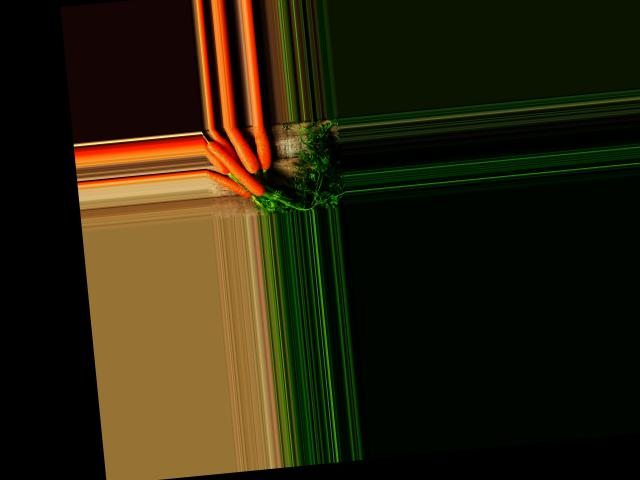carrot: (227, 140, 232, 175)
